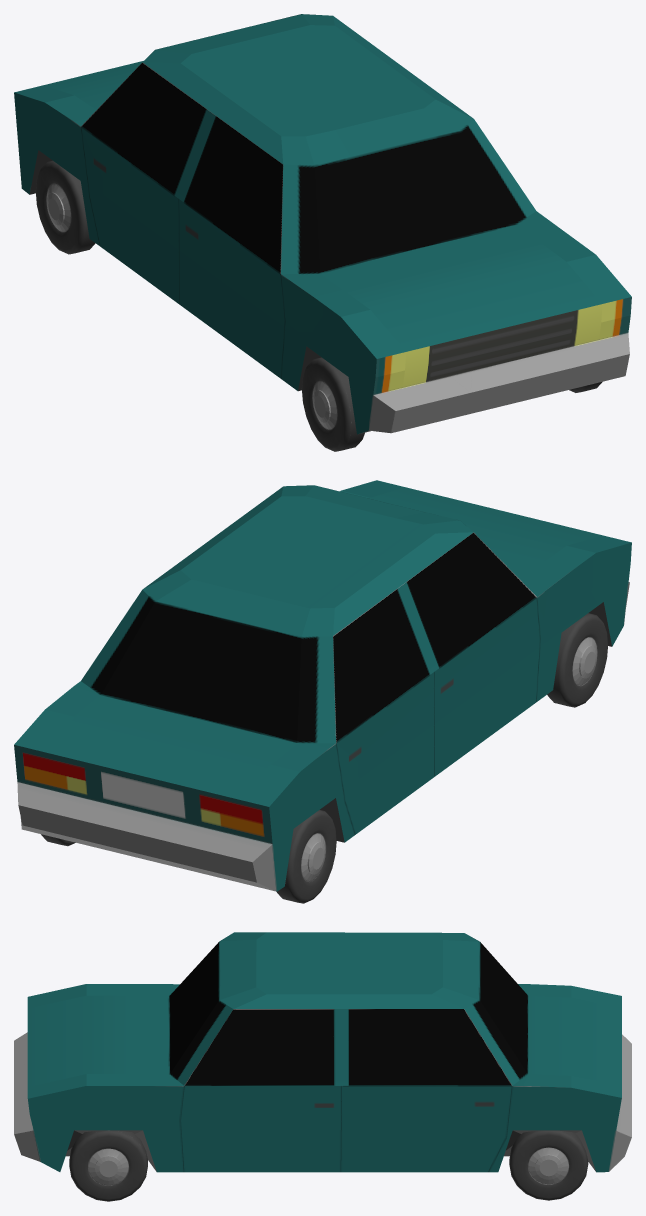
Rendered from GeorgGrech_Lada.fbx.
3 renders of one model, top to bottom at view 1: azimuth 30°, elevation 25°; view 2: azimuth 150°, elevation 25°; view 3: azimuth 270°, elevation 25°, orthographic. The views are drawn at different scales.
Parts seen in each view (by area): view 1: CarBody, Wheel3, Wheel4; view 2: CarBody, Wheel3, Wheel4; view 3: CarBody, Wheel1, Wheel2.
Boxes of the visible parts, bbox=[...] form: CarBody: bbox=[14, 14, 631, 434]; Wheel3: bbox=[301, 357, 364, 451]; Wheel4: bbox=[35, 160, 95, 254]; CarBody: bbox=[14, 480, 631, 891]; Wheel3: bbox=[547, 613, 608, 707]; Wheel4: bbox=[276, 810, 336, 903]; CarBody: bbox=[14, 932, 631, 1172]; Wheel1: bbox=[69, 1130, 147, 1201]; Wheel2: bbox=[509, 1130, 588, 1200].
Bounding box in the file's own units: 2.61 × 2.12 × 6.32.
Materials: 1 (1 with a texture image).
